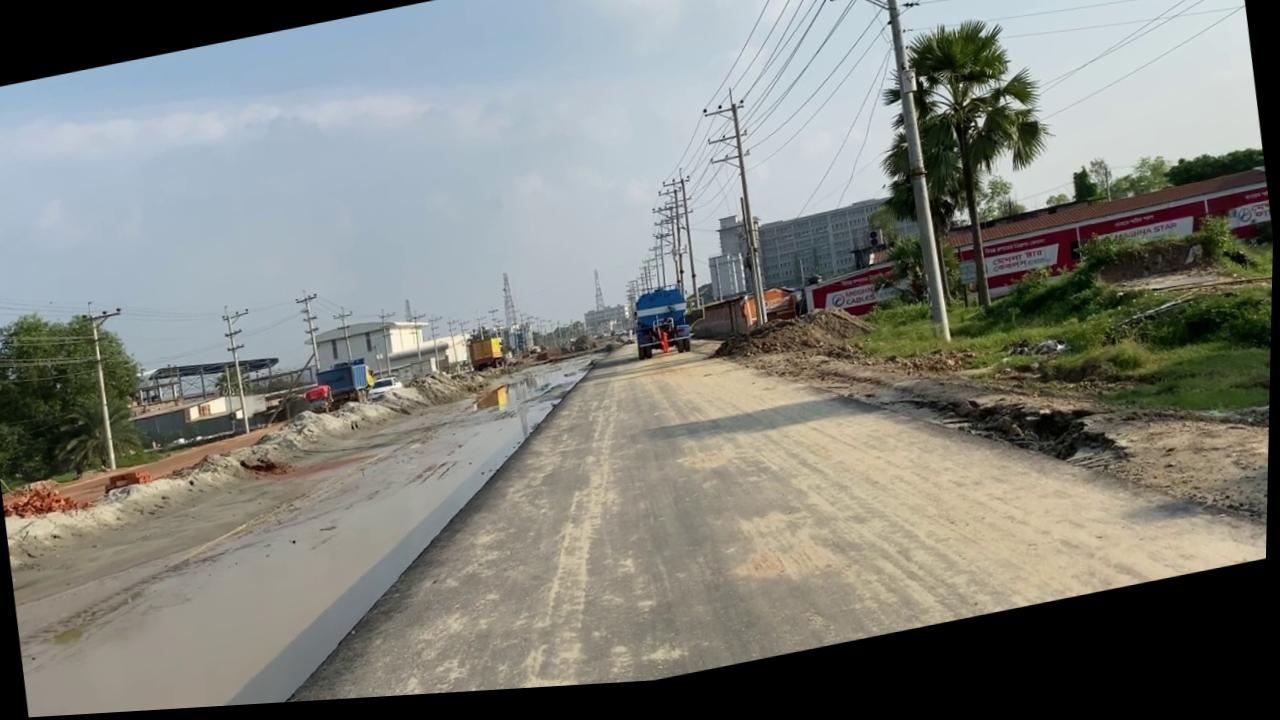Car: (366, 378, 406, 406)
Obstacle: (688, 302, 753, 355)
Pole: (862, 0, 960, 362), (83, 299, 122, 473)
Rickshaw: (184, 225, 1275, 711)
Sidewalk: (0, 342, 664, 720)
Stuck-water: (659, 336, 672, 361)
Traffic-sign: (860, 14, 1078, 340)
Tree: (785, 231, 924, 340), (629, 290, 696, 369), (315, 359, 379, 416), (740, 290, 804, 339), (466, 326, 508, 378), (302, 385, 336, 420)
